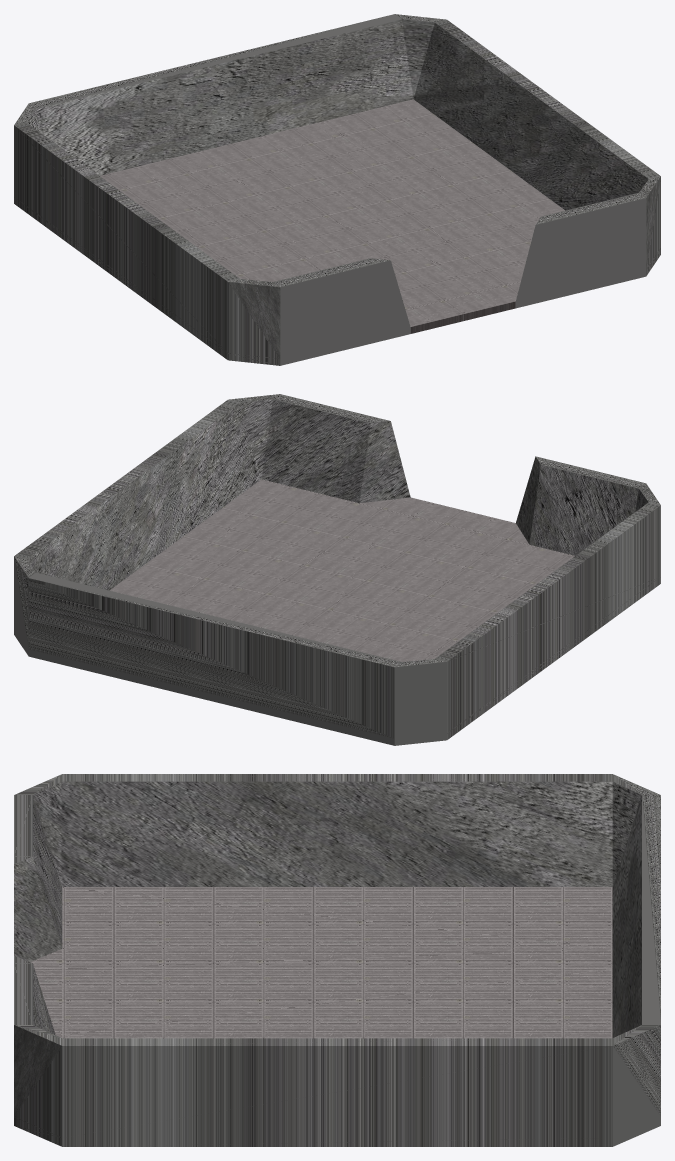
Rendered from Holl.fbx.
3 renders of one model, top to bottom at view 1: azimuth 30°, elevation 25°; view 2: azimuth 150°, elevation 25°; view 3: azimuth 270°, elevation 25°, orthographic. The views are drawn at different scales.
Parts seen in each view (by area): view 1: Holl; view 2: Holl; view 3: Holl.
Boxes of the visible parts, x1,y1,x2,y2 form: Holl: [14, 14, 660, 365]; Holl: [14, 394, 660, 745]; Holl: [14, 774, 660, 1146].
Bounding box in the file's own units: 1827 × 317 × 1837.
